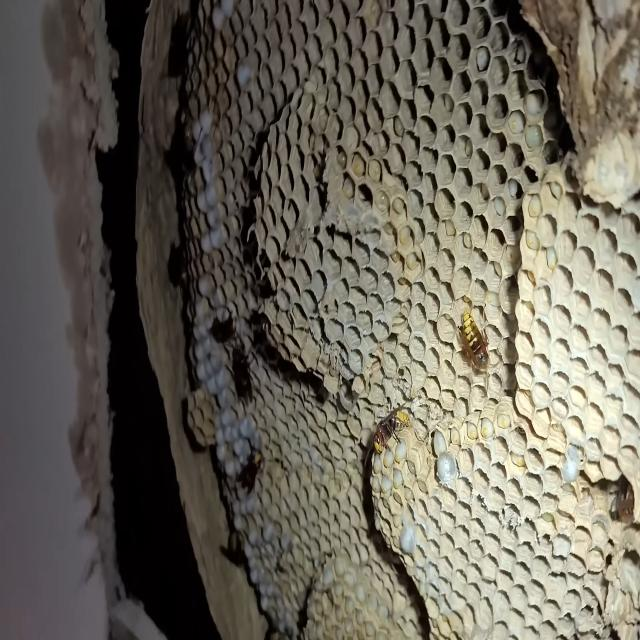Hornets: (363, 400, 410, 463), (451, 306, 491, 378)
